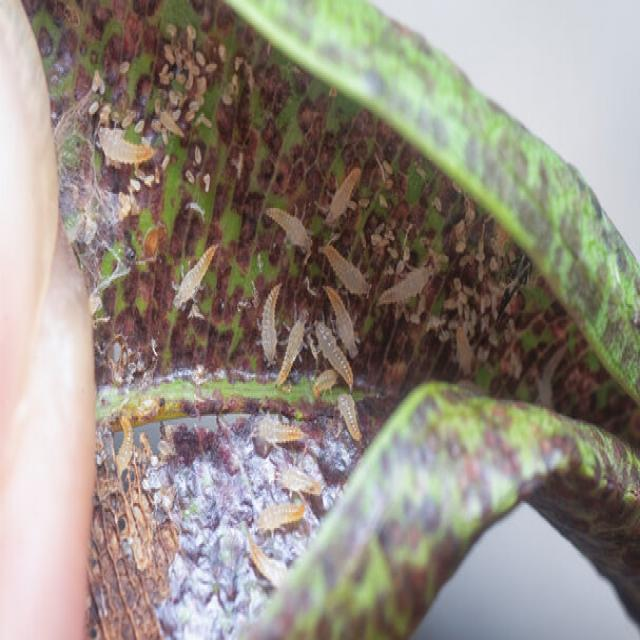Thrip-Group-: (83, 23, 506, 579)
Thrip-Larva-: (314, 234, 374, 298), (169, 235, 218, 312), (311, 317, 362, 388), (376, 257, 435, 312), (261, 198, 315, 257), (278, 303, 312, 391), (94, 120, 161, 164), (253, 282, 287, 365), (322, 282, 361, 350), (248, 416, 313, 455), (324, 164, 366, 224), (272, 458, 331, 500), (332, 376, 365, 446), (253, 500, 310, 536), (112, 409, 138, 481)
